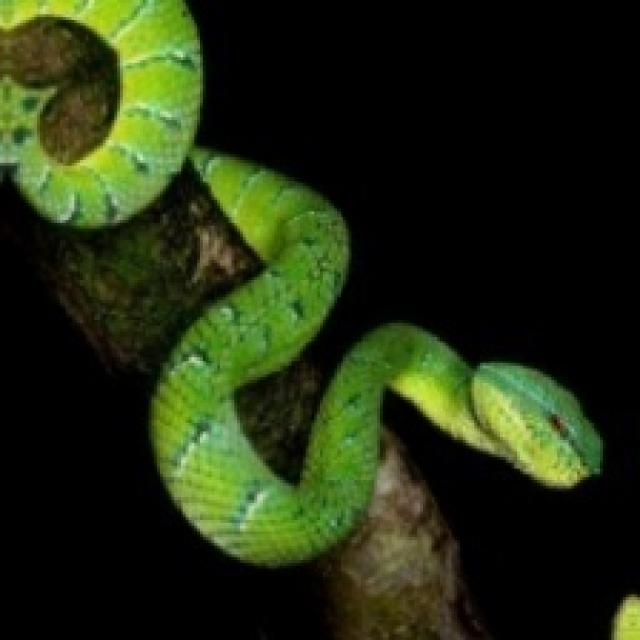north ph temple pitviper: (0, 0, 600, 566)
